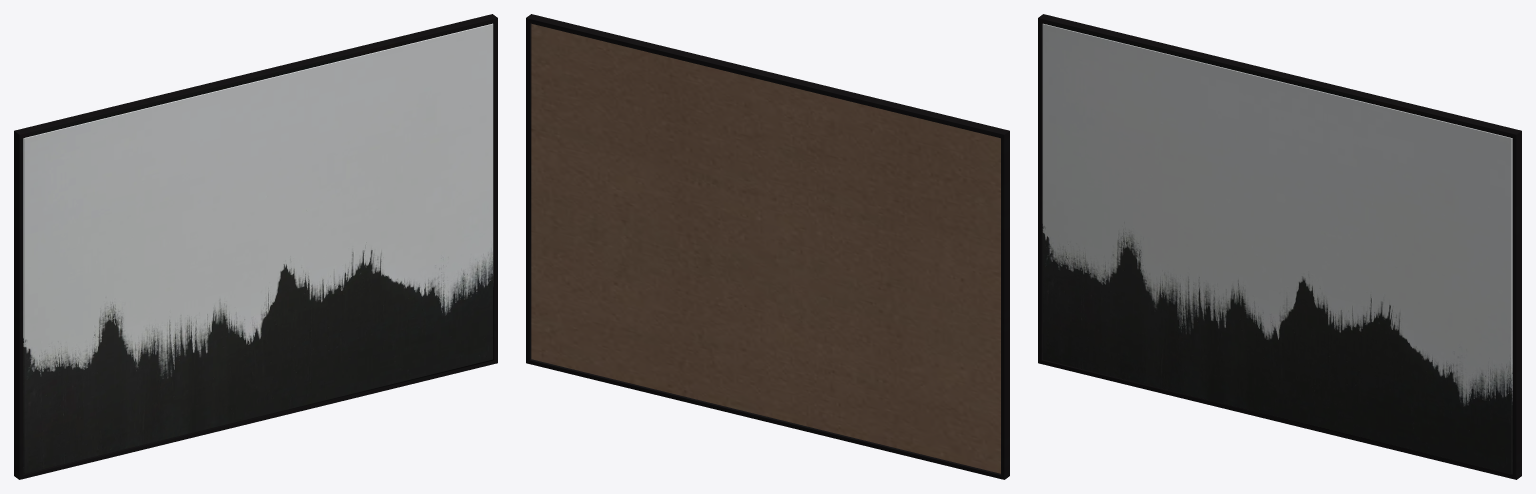
3 renders of one model, left to right at view 1: azimuth 30°, elevation 25°; view 2: azimuth 150°, elevation 25°; view 3: azimuth 330°, elevation 25°, orthographic.
Parts seen in each view (by area): view 1: RootNode; view 2: RootNode; view 3: RootNode.
Part boxes in pixels (bbox=[...]): RootNode: bbox=[14, 14, 497, 479]; RootNode: bbox=[526, 14, 1009, 479]; RootNode: bbox=[1038, 14, 1521, 479].
Size of the model in its own units: 0.9575 by 0.6603 by 0.0192.
Materials: 1 (1 with a texture image).
